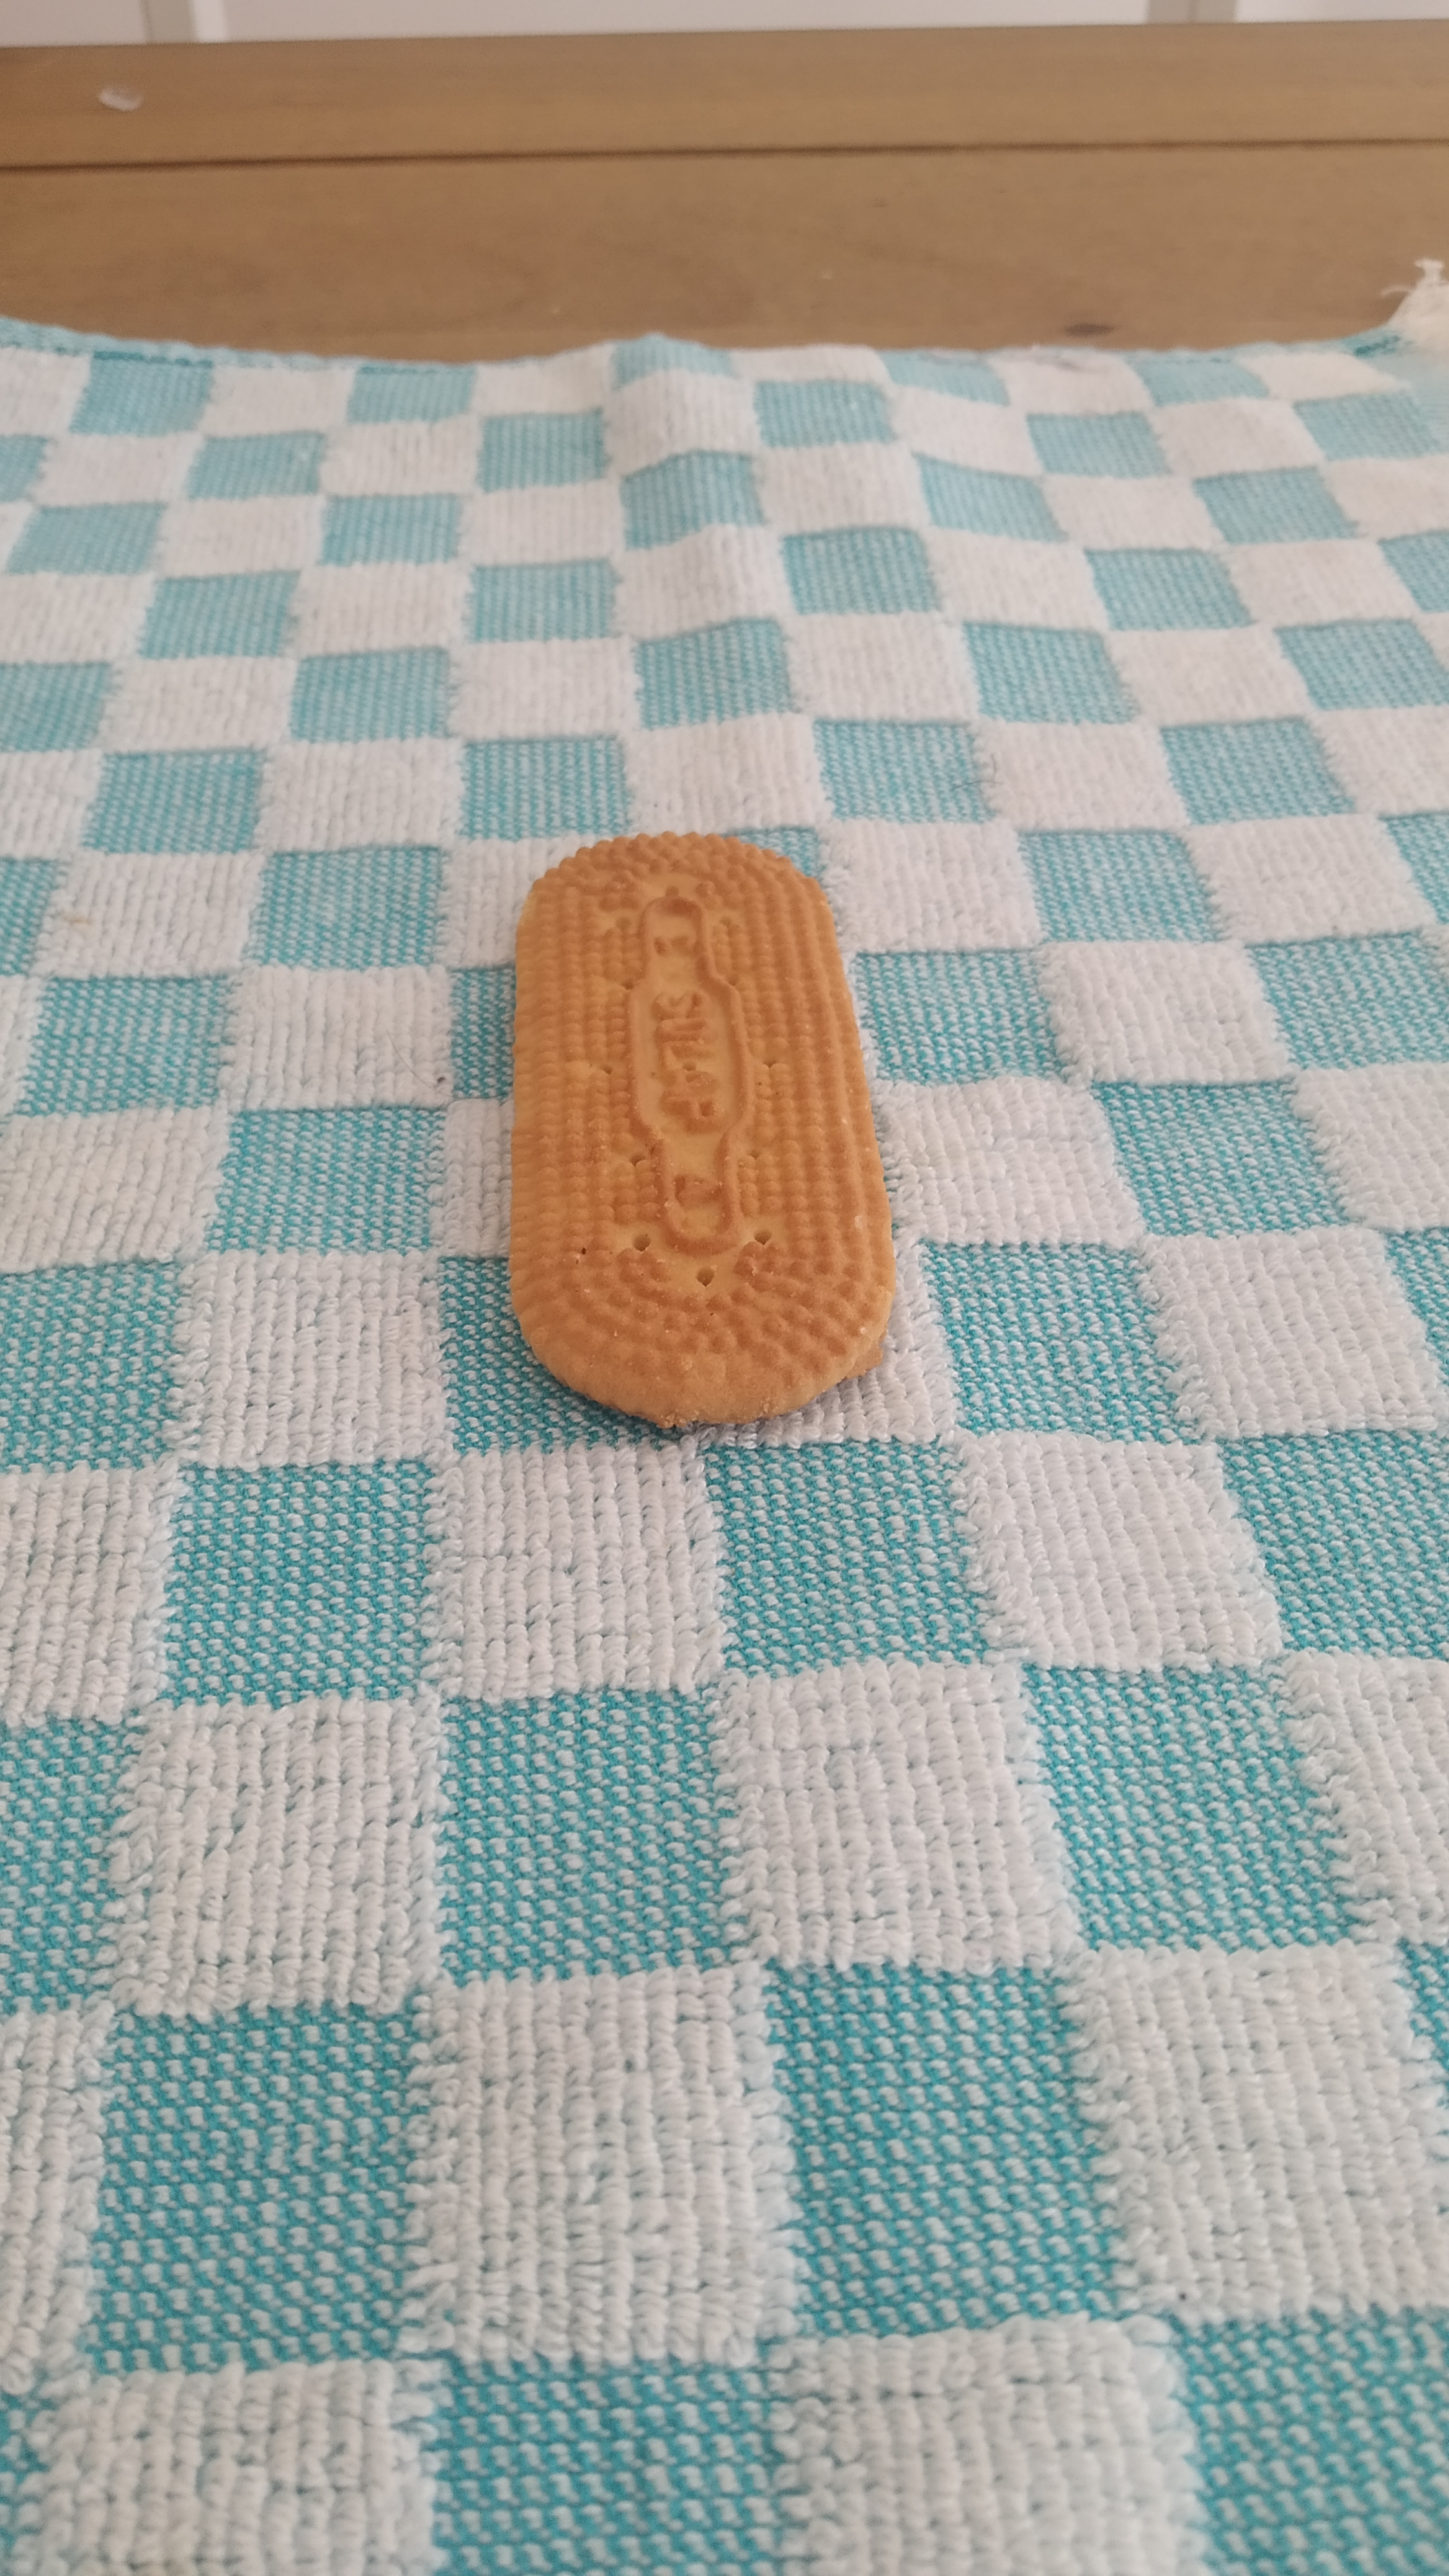solar: (511, 830, 901, 1431)
